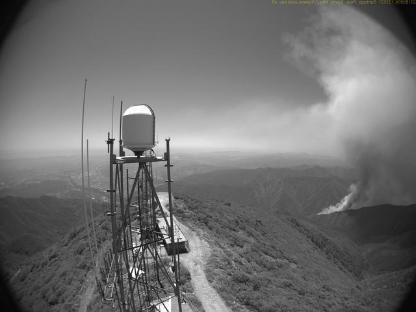smoke: (314, 46, 416, 216)
